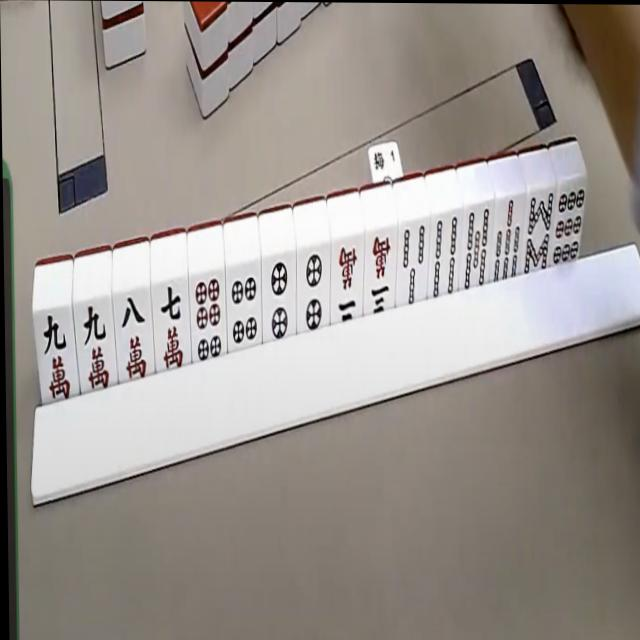m2: (333, 241, 365, 325)
m3: (365, 230, 399, 319)
m7: (154, 279, 193, 373)
m8: (114, 290, 154, 381)
m9: (36, 308, 79, 402), (75, 298, 115, 392)
s3: (399, 220, 431, 307)
s4: (428, 212, 462, 299)
s5: (461, 205, 491, 291)
s7: (493, 195, 526, 283)
s8: (523, 191, 557, 275)
t2: (265, 254, 299, 341), (298, 245, 331, 332)
t4: (228, 263, 265, 348)
t6: (190, 274, 229, 361)
t9: (551, 180, 589, 267)
